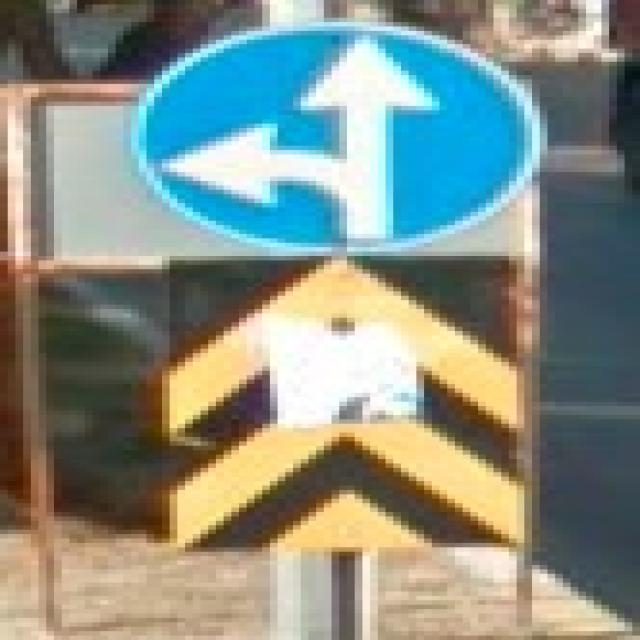Straight or Left: (128, 26, 545, 251)
